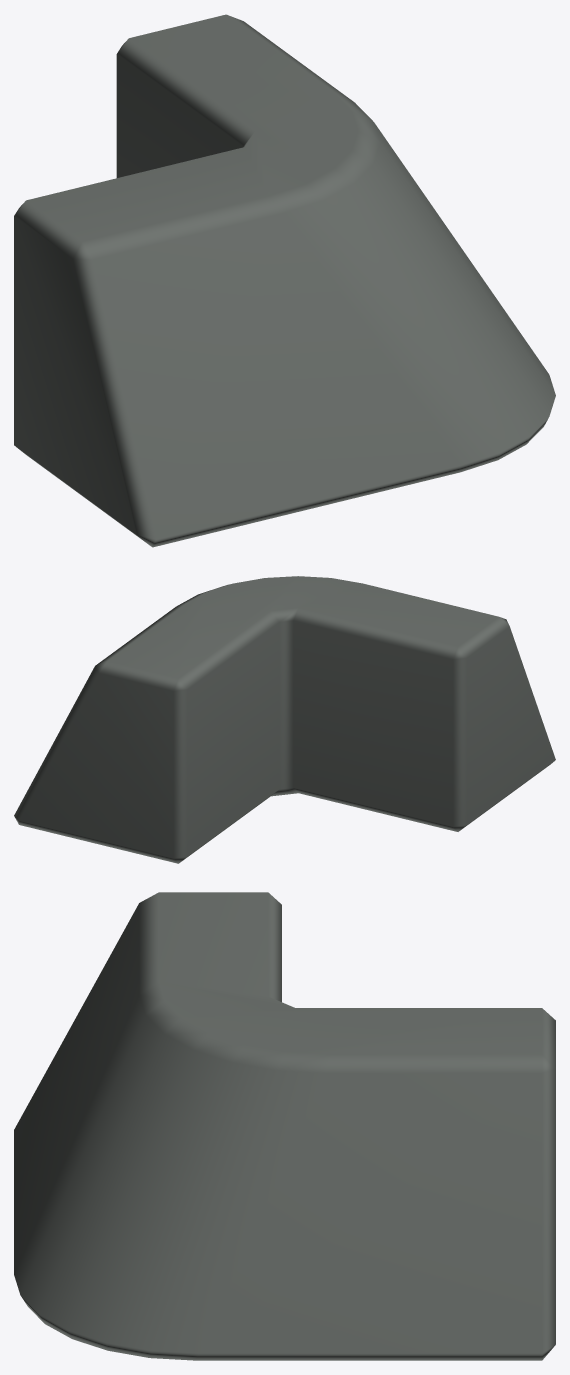
The model's file is Env_Wall_SpaceStation_OutCorner_2x2.fbx.
3 renders of one model, top to bottom at view 1: azimuth 30°, elevation 25°; view 2: azimuth 150°, elevation 25°; view 3: azimuth 270°, elevation 25°, orthographic. The views are drawn at different scales.
Visible parts, largest first — view 1: Wall_Corner_Outer; view 2: Wall_Corner_Outer; view 3: Wall_Corner_Outer.
Part boxes in pixels (bbox=[...]): Wall_Corner_Outer: bbox=[14, 14, 555, 547]; Wall_Corner_Outer: bbox=[14, 576, 555, 863]; Wall_Corner_Outer: bbox=[14, 892, 555, 1360].
Size of the model in its own units: 198 by 100 by 198.
